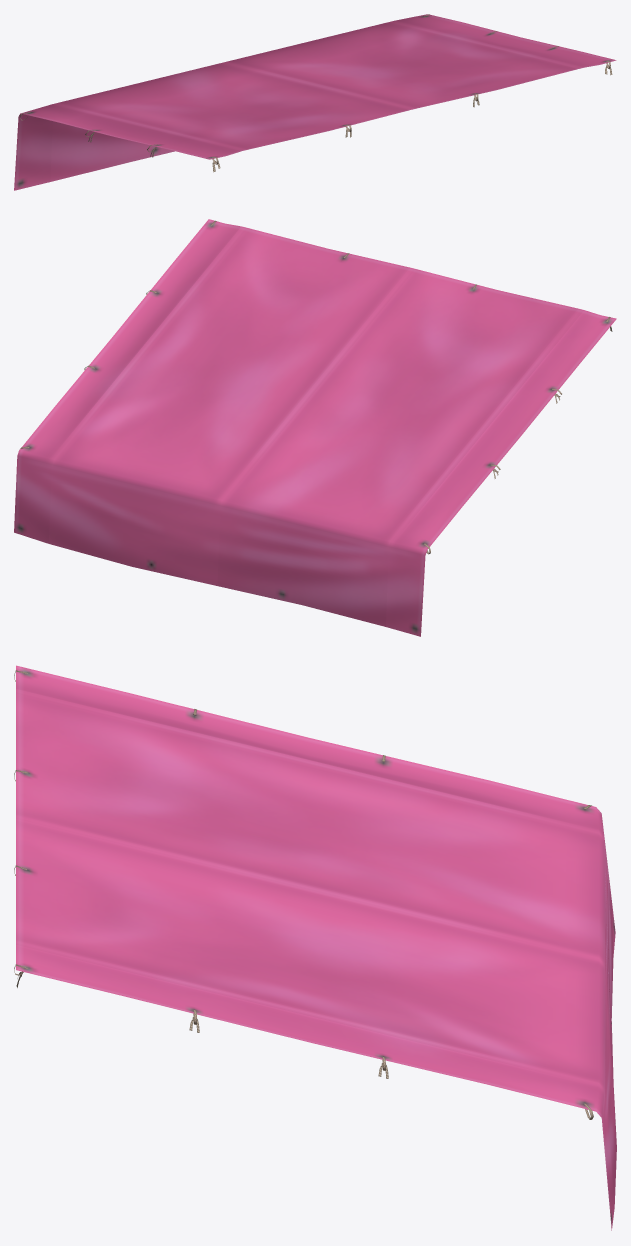
Rendered from jsf_Ceiling_s02_c06_t01.fbx.
3 views of the same model, one above another, from view 1: azimuth 30°, elevation 25°; view 2: azimuth 150°, elevation 25°; view 3: azimuth 270°, elevation 25° (orthographic). The views are drawn at different scales.
Parts seen in each view (by area): view 1: jsf_Ceiling_s02_c06_t01; view 2: jsf_Ceiling_s02_c06_t01; view 3: jsf_Ceiling_s02_c06_t01.
Boxes of the visible parts, left/top/right/bottom form: jsf_Ceiling_s02_c06_t01: left=14, top=14, right=616, bottom=190; jsf_Ceiling_s02_c06_t01: left=14, top=219, right=616, bottom=636; jsf_Ceiling_s02_c06_t01: left=14, top=665, right=616, bottom=1230.
Size of the model in its own units: 263 by 106 by 216.
